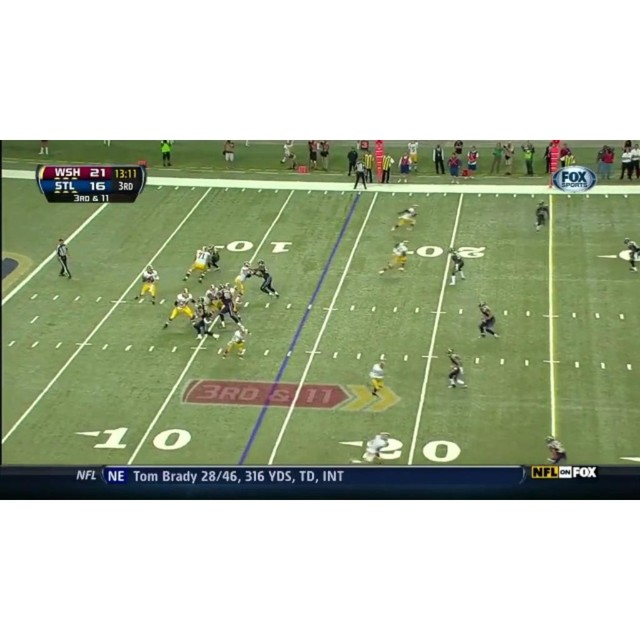american-football-player: (162, 287, 197, 331), (379, 240, 410, 276), (192, 301, 219, 342), (218, 326, 250, 360), (183, 246, 211, 283), (253, 260, 279, 299), (218, 284, 242, 326), (135, 266, 159, 305), (362, 431, 390, 464), (446, 347, 468, 389), (368, 354, 387, 400), (233, 260, 254, 300), (477, 302, 499, 339), (447, 248, 467, 285), (391, 206, 418, 233), (544, 435, 568, 464), (622, 237, 640, 273), (534, 199, 550, 232), (206, 245, 221, 272)
referee: (56, 237, 72, 279), (352, 159, 369, 190)
